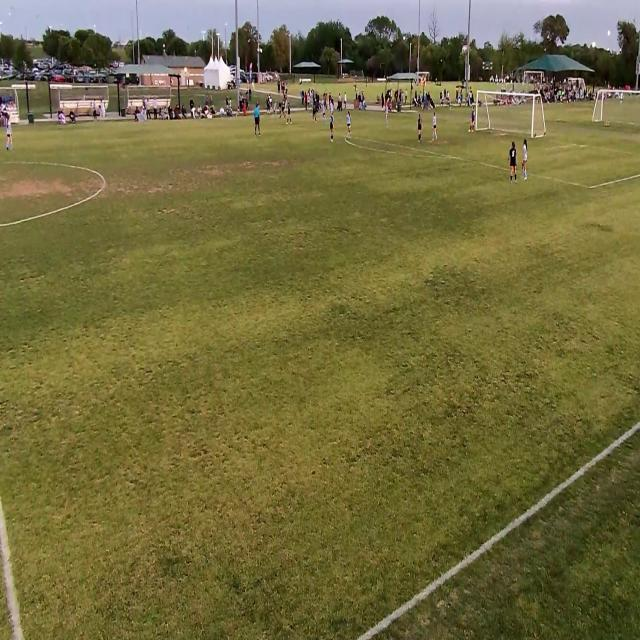ball: (314, 118, 317, 122)
team1: (509, 139, 518, 182), (329, 110, 336, 143), (417, 112, 423, 144), (279, 100, 286, 120), (287, 102, 292, 125), (312, 103, 317, 125)
team2: (521, 139, 530, 181), (6, 114, 15, 153), (432, 111, 439, 143), (346, 110, 352, 140), (384, 101, 390, 129), (320, 102, 328, 123), (329, 100, 334, 112)
